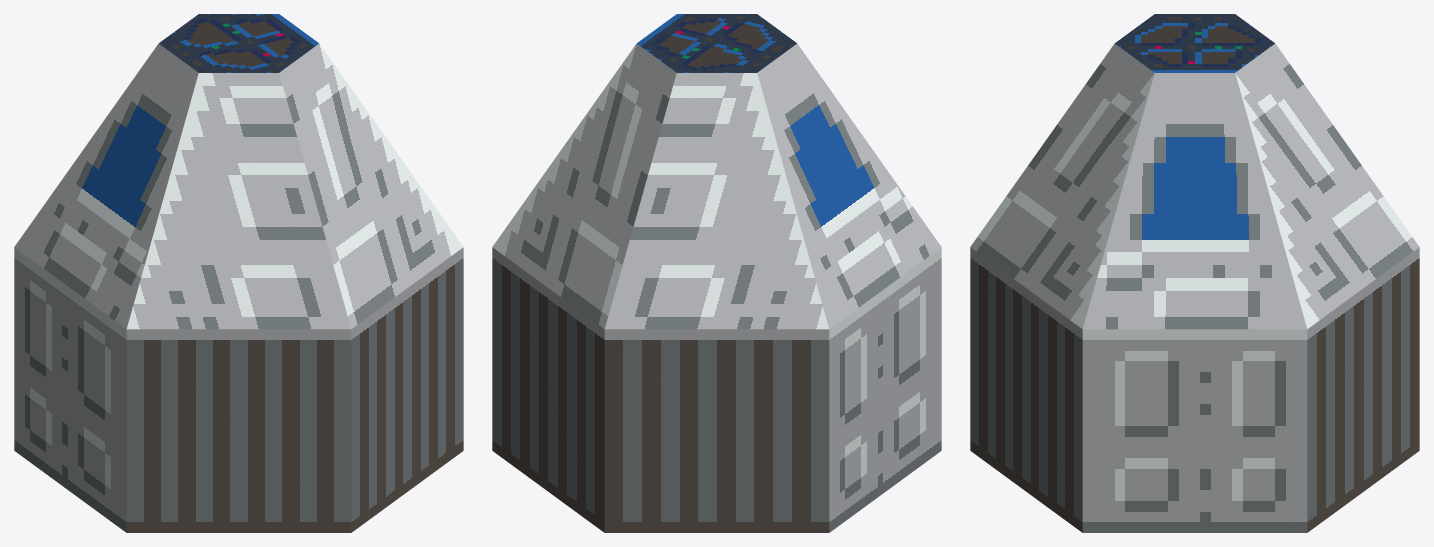
The model's file is command_module.obj.
3 views of the same model, side by side, from view 1: azimuth 30°, elevation 25°; view 2: azimuth 150°, elevation 25°; view 3: azimuth 270°, elevation 25° (orthographic).
Parts seen in each view (by area): view 1: Cylinder.002; view 2: Cylinder.002; view 3: Cylinder.002.
Boxes of the visible parts, x1=… form: Cylinder.002: x1=14, y1=14, x2=463, y2=532; Cylinder.002: x1=492, y1=14, x2=941, y2=532; Cylinder.002: x1=970, y1=14, x2=1419, y2=532.
Size of the model in its own units: 1.73 by 2 by 2.
